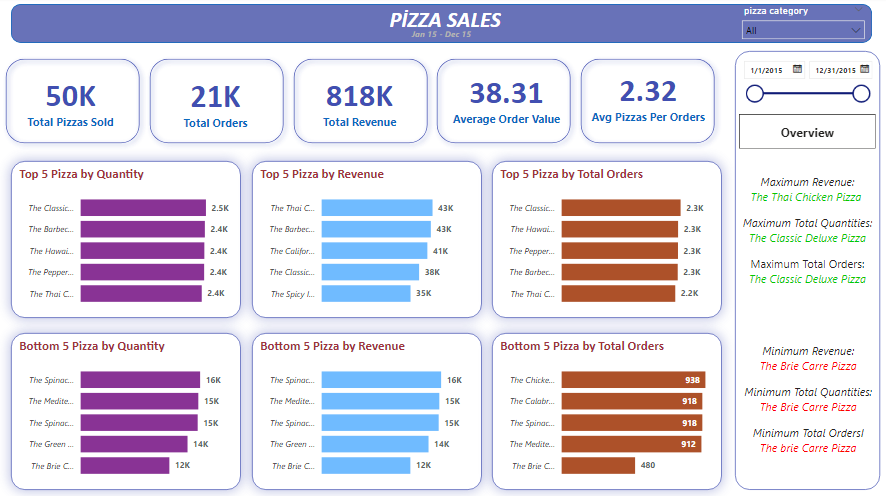

Layout of this report page (visuals, bound fields, positions):
{"tool":"powerbi","page":{"name":"Best\\Worst sales","canvas":[1280,720],"ordinal":1},"visuals":[{"type":"card","fields":{"Values":["pizza_sales.Total Orders"]},"box":[221.8,89.3,182.9,119.5],"z":0},{"type":"card","fields":{"Values":["pizza_sales.Avg Pizzas Per Orders"]},"box":[822.2,28.8,227.5,224.6],"z":1000},{"type":"card","fields":{"Values":["pizza_sales.Total Pizzas Sold"]},"box":[0,77.8,208.8,141.1],"z":2000},{"type":"card","fields":{"Values":["pizza_sales.Average Order Value"]},"box":[620.6,28.8,223.2,229],"z":3000},{"type":"card","fields":{"Values":["pizza_sales.Total Revenue"]},"box":[413.3,37.4,214.6,220.3],"z":4000},{"type":"shape","box":[0,77.8,214.6,144],"z":5000},{"type":"shape","box":[828,77.8,214.6,144],"z":6000},{"type":"shape","box":[207,77.8,214.6,144],"z":7000},{"type":"shape","box":[414,77.8,214.6,144],"z":8000},{"type":"shape","box":[621,77.8,214.6,144],"z":9000},{"type":"shape","box":[18.7,10.1,1239.8,56.2],"z":10000},{"type":"textbox","box":[558.7,8.6,347,56.2],"z":11000},{"type":"textbox","box":[1050,66,209,188],"z":12000},{"type":"textbox","box":[590.4,38.9,214.6,43.2],"z":13000},{"type":"textbox","box":[1061.3,77.8,208.8,632.2],"z":14000},{"type":"textbox","box":[1067,250.6,197.3,187.2],"z":15000},{"type":"slicer","fields":{"Values":["pizza_sales.pizza_category"]},"box":[1061.3,5.8,197.3,54.7],"z":16000},{"type":"slicer","fields":{"Values":["pizza_sales.order_date"]},"box":[1061.3,82.1,203,96.5],"z":17000},{"type":"barChart","title":"Top 5 Pizza by Quantity","fields":{"Category":["pizza_sales.pizza_name"],"Y":["pizza_sales.Total Pizzas Sold"]},"box":[18.7,236.2,331.2,226.1],"z":18000},{"type":"barChart","title":"Top 5 Pizza by Revenue","fields":{"Category":["pizza_sales.pizza_name"],"Y":["pizza_sales.Total Revenue"]},"box":[365.8,236.2,331.2,226.1],"z":19000},{"type":"barChart","title":"Top 5 Pizza by Total Orders","fields":{"Category":["pizza_sales.pizza_name"],"Y":["pizza_sales.Total Orders"]},"box":[711.4,236.2,331.2,226.1],"z":20000},{"type":"barChart","title":"Bottom 5 Pizza by Revenue","fields":{"Category":["pizza_sales.pizza_name"],"Y":["pizza_sales.Total Revenue"]},"box":[365.8,483.8,331.2,226.1],"z":21000},{"type":"barChart","title":"Bottom 5 Pizza by Total Orders","fields":{"Category":["pizza_sales.pizza_name"],"Y":["pizza_sales.Total Orders"]},"box":[711.4,483.8,331.2,226.1],"z":22000},{"type":"barChart","title":"Bottom 5 Pizza by Quantity","fields":{"Category":["pizza_sales.pizza_name"],"Y":["pizza_sales.Total Revenue"]},"box":[18.7,483.8,331.2,226.1],"z":23000},{"type":"pageNavigator","box":[1067,168.5,197.3,50.4],"z":24000}]}

Visuals, with their boxes in screenshot pixels (x1, y1, x2, y2), scaled from the page's 1280x720 canvas onto the 886x496 screenshot:
card - pizza_sales.Total Orders: l=154, t=62, r=280, b=144
card - pizza_sales.Avg Pizzas Per Orders: l=569, t=20, r=727, b=175
card - pizza_sales.Total Pizzas Sold: l=0, t=54, r=145, b=151
card - pizza_sales.Average Order Value: l=430, t=20, r=584, b=178
card - pizza_sales.Total Revenue: l=286, t=26, r=435, b=178
shape: l=0, t=54, r=149, b=153
shape: l=573, t=54, r=722, b=153
shape: l=143, t=54, r=292, b=153
shape: l=287, t=54, r=435, b=153
shape: l=430, t=54, r=578, b=153
shape: l=13, t=7, r=871, b=46
textbox: l=387, t=6, r=627, b=45
textbox: l=727, t=45, r=871, b=175
textbox: l=409, t=27, r=557, b=57
textbox: l=735, t=54, r=879, b=489
textbox: l=739, t=173, r=875, b=302
slicer - pizza_sales.pizza_category: l=735, t=4, r=871, b=42
slicer - pizza_sales.order_date: l=735, t=57, r=875, b=123
"Top 5 Pizza by Quantity" barChart: l=13, t=163, r=242, b=318
"Top 5 Pizza by Revenue" barChart: l=253, t=163, r=482, b=318
"Top 5 Pizza by Total Orders" barChart: l=492, t=163, r=722, b=318
"Bottom 5 Pizza by Revenue" barChart: l=253, t=333, r=482, b=489
"Bottom 5 Pizza by Total Orders" barChart: l=492, t=333, r=722, b=489
"Bottom 5 Pizza by Quantity" barChart: l=13, t=333, r=242, b=489
pageNavigator: l=739, t=116, r=875, b=151
